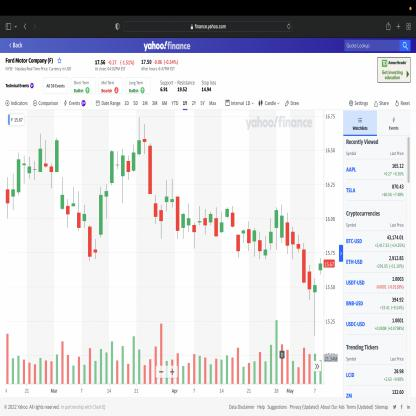Bullish: Hammer: (306, 256, 323, 338)
